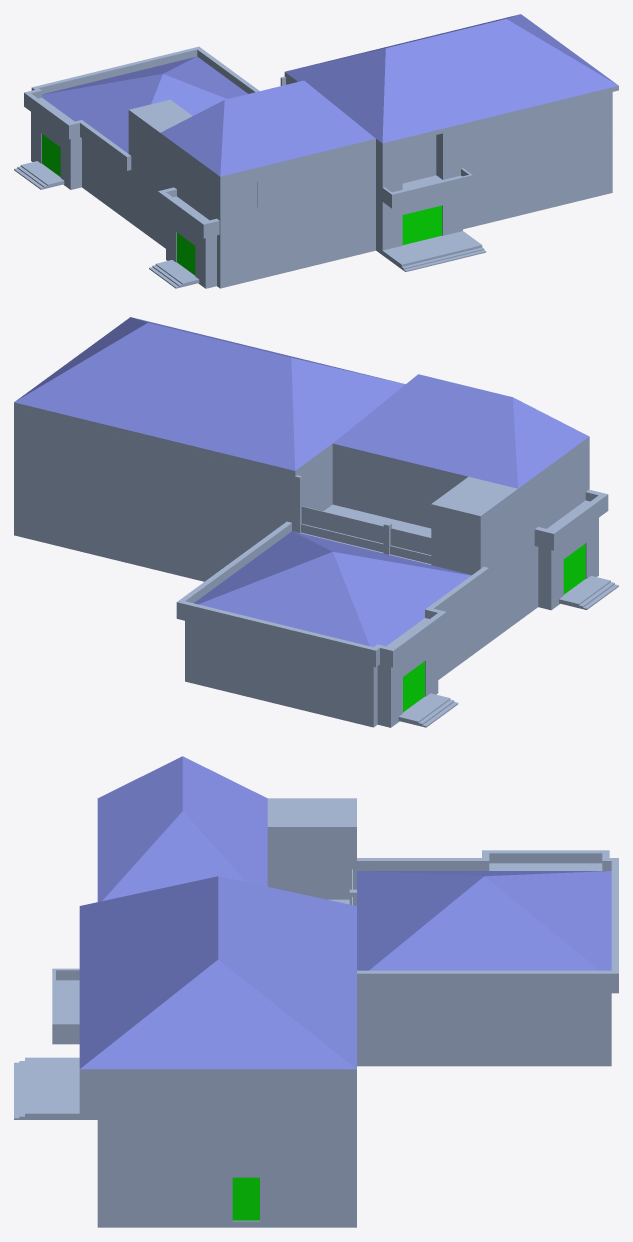
File: Residential_Building.glb
The picture shows the model from 3 angles, top to bottom: view 1: azimuth 30°, elevation 25°; view 2: azimuth 150°, elevation 25°; view 3: azimuth 270°, elevation 25°; orthographic projection. The views are drawn at different scales.
Parts seen in each view (by area): view 1: Floor2, Roof, Floor1; view 2: Floor2, Roof, Floor1; view 3: Roof, Floor2, Floor1.
Part boxes in pixels (left/top/right/bottom): Floor2: left=24, top=46, right=612, bottom=238; Roof: left=128, top=14, right=618, bottom=181; Floor1: left=14, top=112, right=612, bottom=288; Floor2: left=14, top=408, right=608, bottom=667; Roof: left=14, top=317, right=589, bottom=521; Floor1: left=14, top=471, right=618, bottom=727; Roof: left=79, top=756, right=356, bottom=1075; Floor2: left=52, top=833, right=618, bottom=1151; Floor1: left=14, top=993, right=611, bottom=1227.
Bounding box in the file's own units: 38.34 × 13.6 × 33.24.
